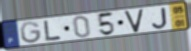0: (72, 15, 92, 39)
5: (96, 12, 116, 37)
G: (19, 21, 43, 45)
J: (151, 6, 169, 30)
L: (43, 19, 63, 42)
V: (124, 8, 145, 34)
